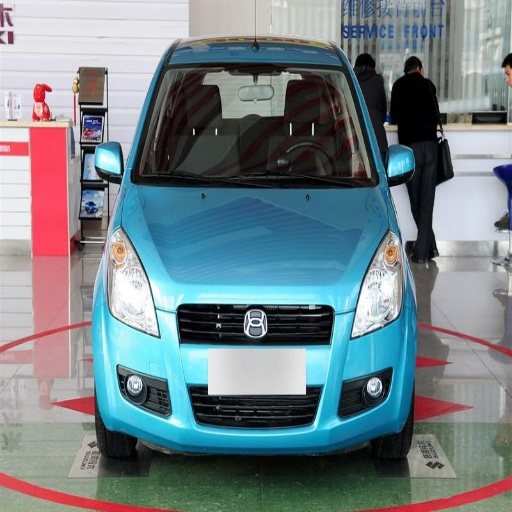front_bumper: (99, 308, 411, 453)
front_right_light: (104, 231, 159, 336)
hood: (119, 184, 388, 310)
left_mirror: (387, 145, 417, 186)
